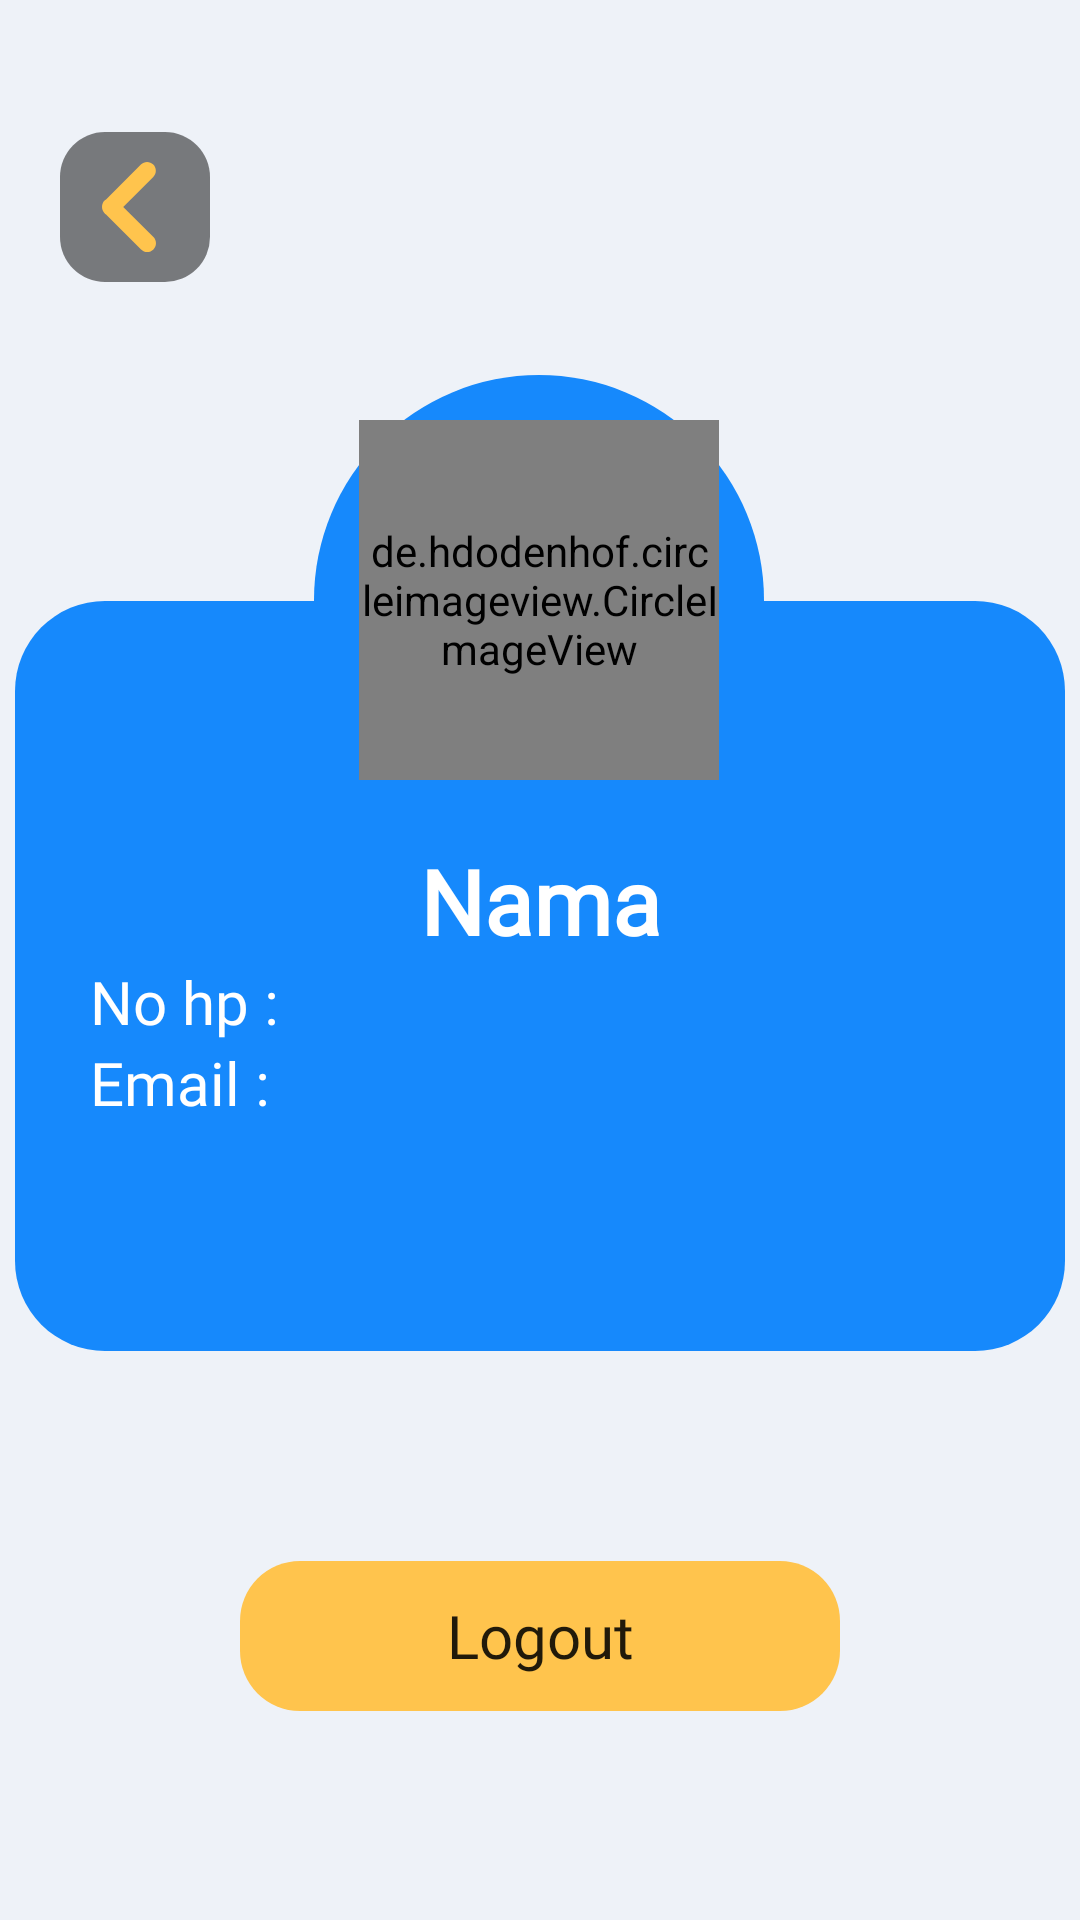

Where to tap for icons on this 1080px×1920px app screen, as [x,y]:
back: [135,207]
